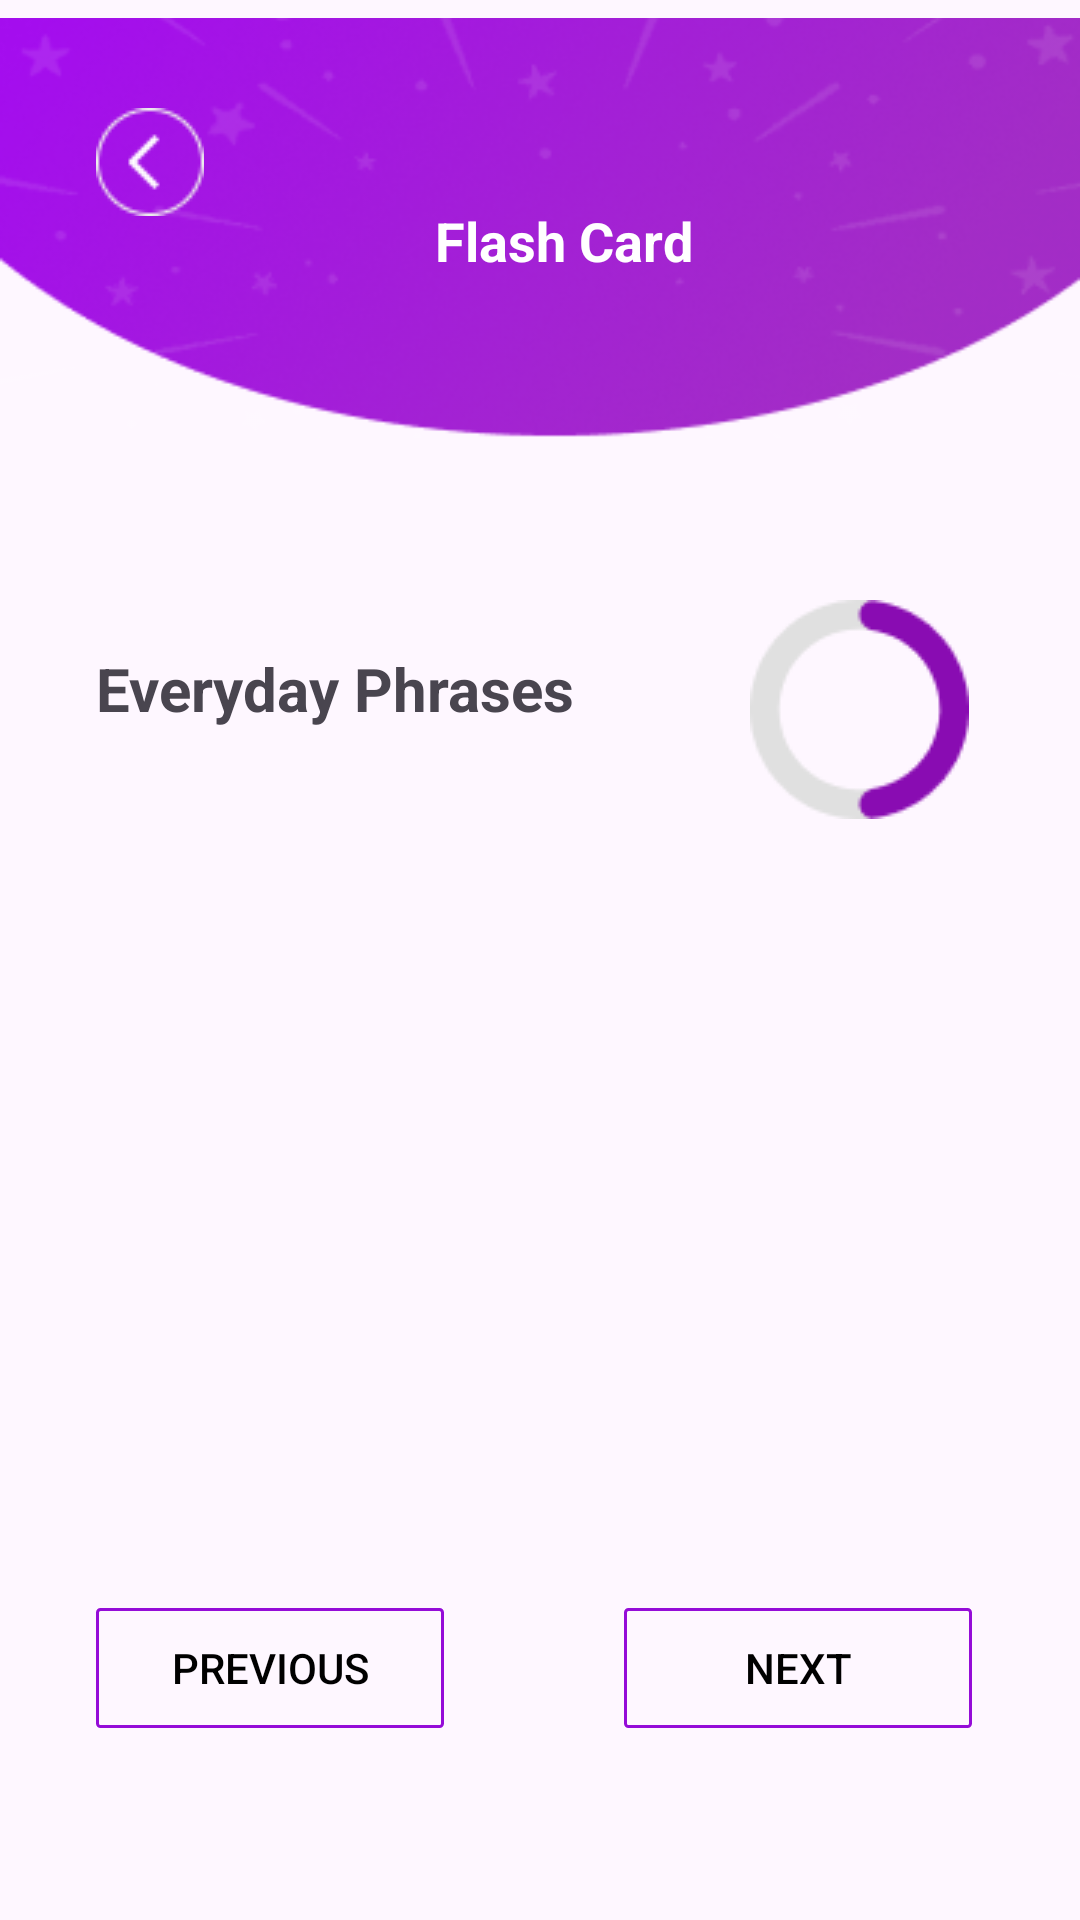

Named icons in this screenshot (1080px×1920px) and their centers, point (x, y):
round: point (859, 709)
